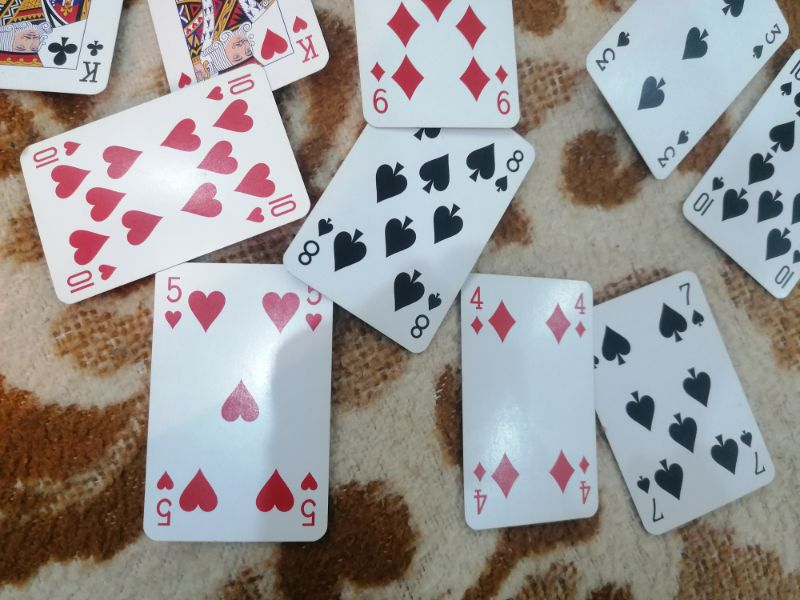3s: (595, 27, 633, 74), (654, 126, 692, 173), (748, 19, 784, 61)
4d: (469, 458, 491, 519), (466, 282, 488, 337), (575, 453, 594, 508), (571, 290, 588, 338)
5h: (296, 468, 322, 529), (152, 468, 177, 530), (162, 273, 186, 332)
7s: (632, 472, 669, 526), (738, 426, 770, 476), (677, 280, 709, 329)
8s: (296, 214, 337, 267), (404, 289, 445, 341), (492, 148, 528, 196)
9d: (368, 58, 393, 114), (491, 62, 514, 120)
Kc: (76, 37, 109, 87)
Kh: (288, 13, 320, 65)
Th: (244, 189, 298, 227), (64, 261, 120, 296), (31, 135, 83, 172), (205, 71, 258, 104)
Ts: (688, 172, 730, 218)
